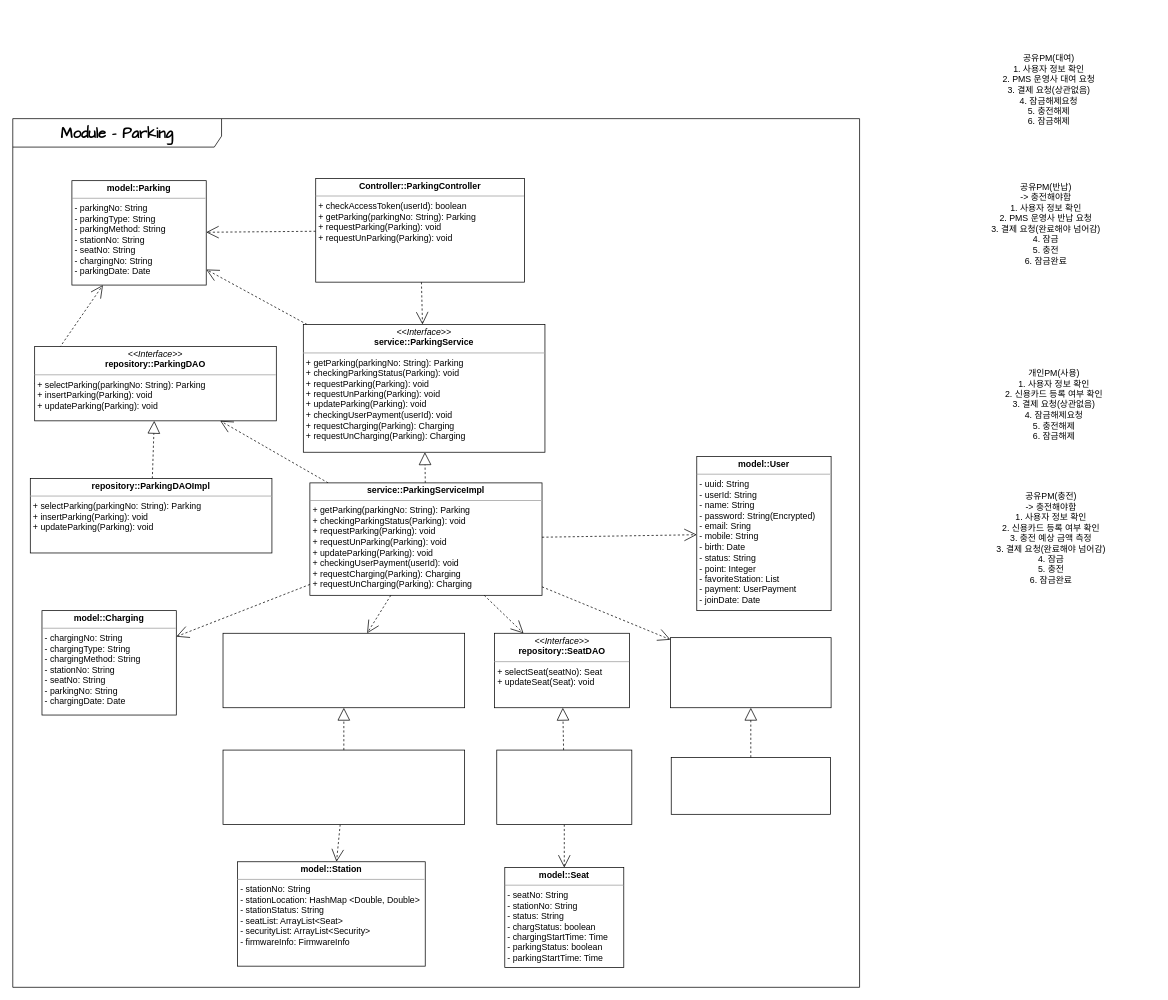
This 1168x1000 diagram has some shape labels left out. The shapes that lost their labels are listed below. From the top down, each one's centre as x and y in pixels, then its label:
At (343,670): "<<Interface>> repository::StationDAO + selectStation(stationNo): Station".
At (750,672): "<<Interface>> service::CalculatePrice + getPrice(Seat): price".
At (343,787): "repository::StationDAOImpl + selectStation(stationNo): Station".
At (564,787): "repository::SeatDAOImpl + selectSeat(seatNo): Seat + updateSeat(Seat): void".
At (750,785): "service::CalculatePriceImpl + getPrice(Seat): price".
